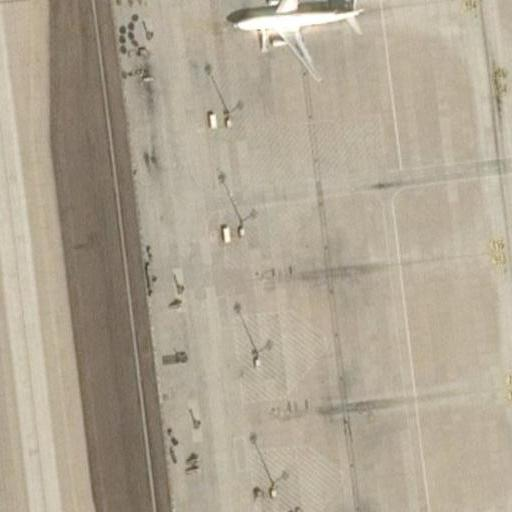Aircraft: (215, 0, 370, 76)
